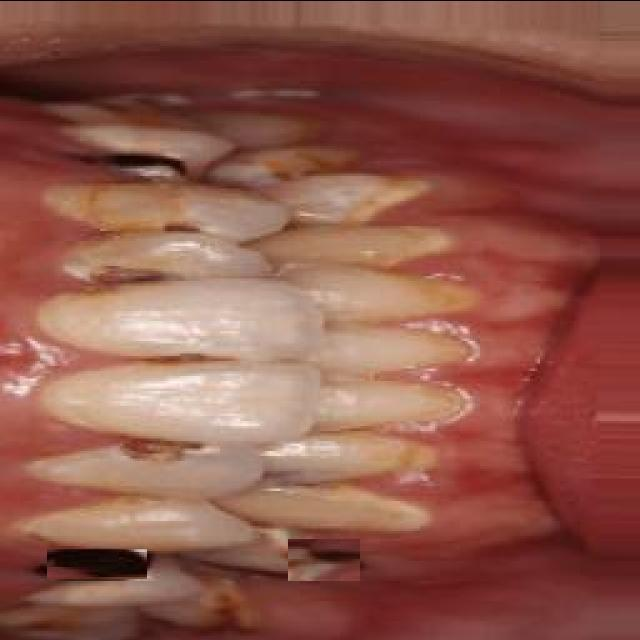decay: (288, 538, 360, 580), (48, 548, 148, 578), (112, 258, 170, 298), (93, 158, 195, 178), (133, 445, 193, 460), (170, 218, 205, 238)
